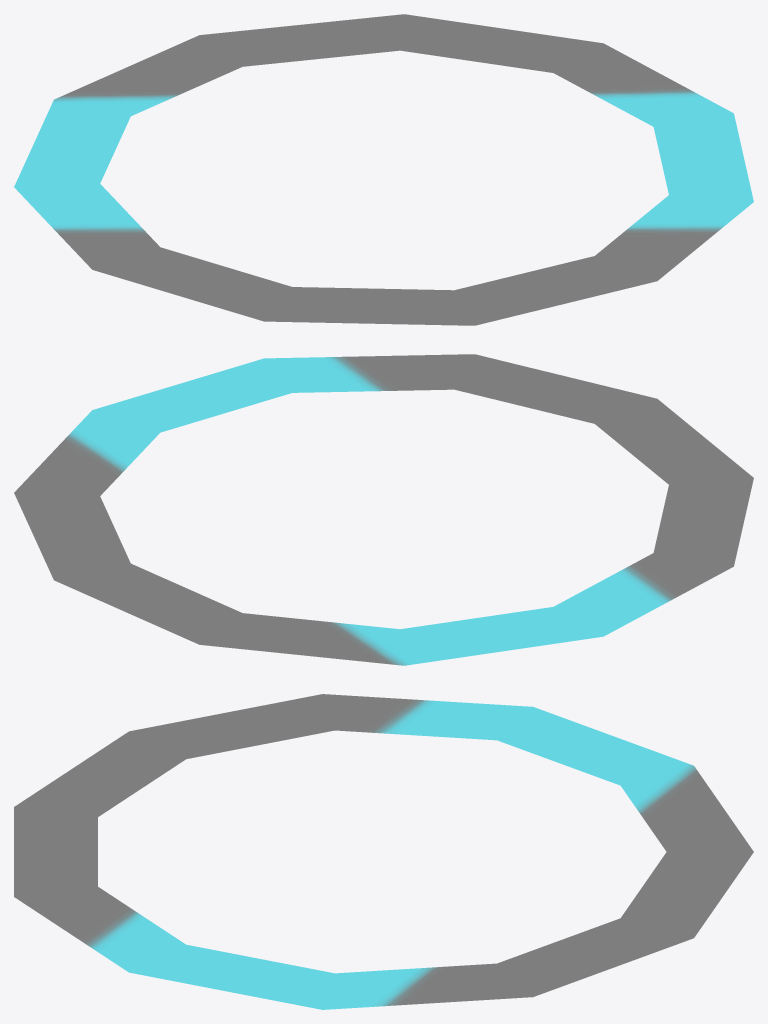
The picture shows the model from 3 angles, top to bottom: view 1: azimuth 30°, elevation 25°; view 2: azimuth 150°, elevation 25°; view 3: azimuth 270°, elevation 25°; orthographic projection.
Parts seen in each view (by area): view 1: led; view 2: led; view 3: led.
Part boxes in pixels (x1=…): led: x1=14, y1=14, x2=753, y2=325; led: x1=14, y1=354, x2=753, y2=665; led: x1=14, y1=694, x2=753, y2=1009.
Size of the model in its own units: 23.21 by 0.00133 by 22.98.
